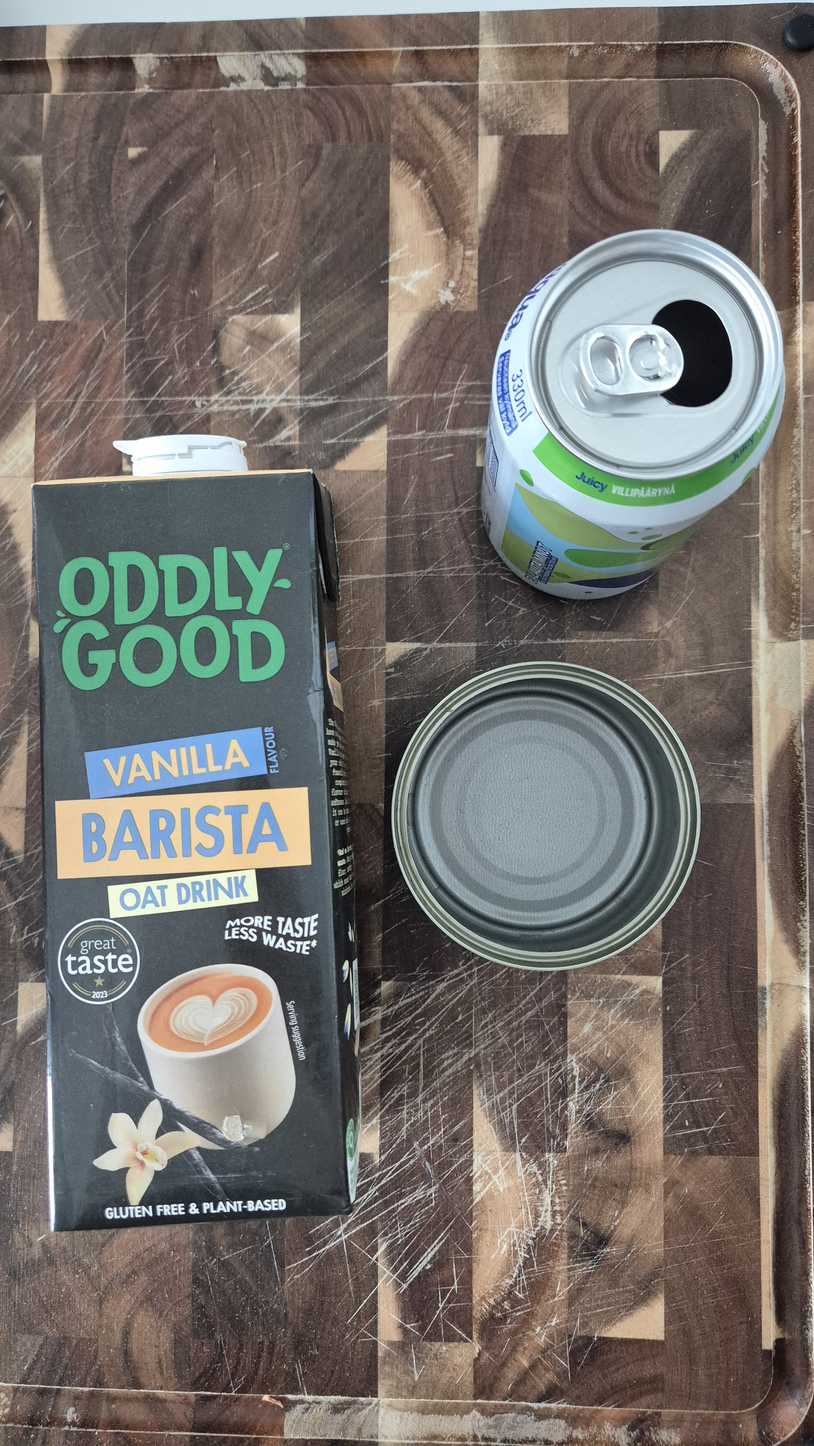Dryckeskartong: (32, 436, 361, 1232)
Konservburk: (391, 662, 701, 972)
Pantburk: (482, 228, 786, 599)
